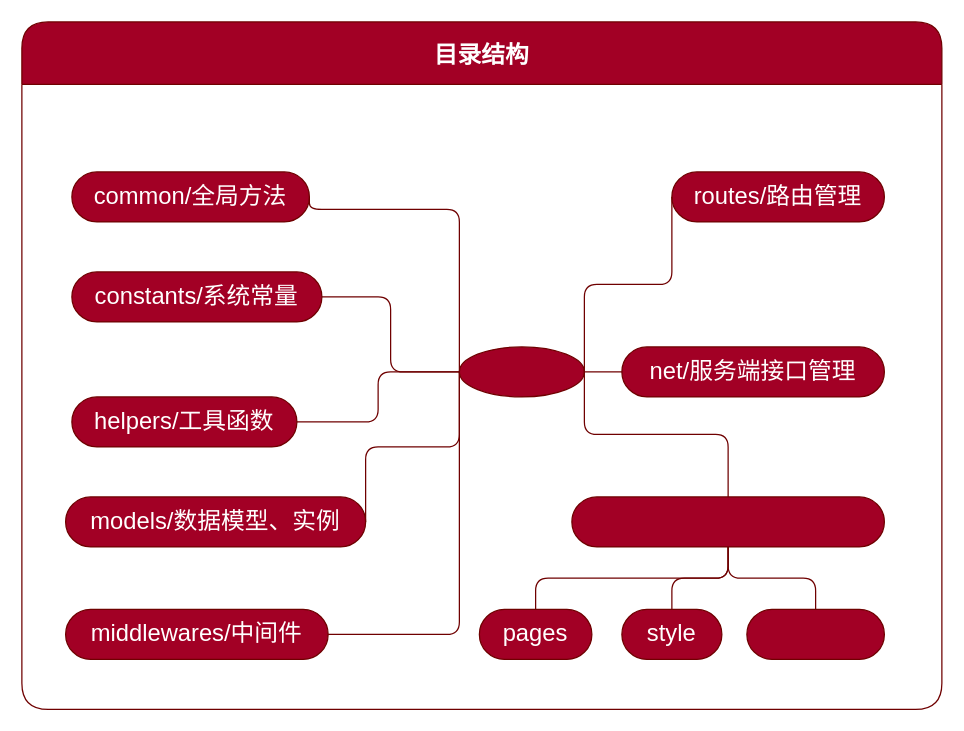
The diagram is 964 pixels wide and 731 high, and some of its shapes have lost their labels. Each missing label, with the centre of its shape:
"lib" goes at point 521,371.
"ui/页面、样式、公共组件" goes at point 727,521.
"widgets" goes at point 815,633.
